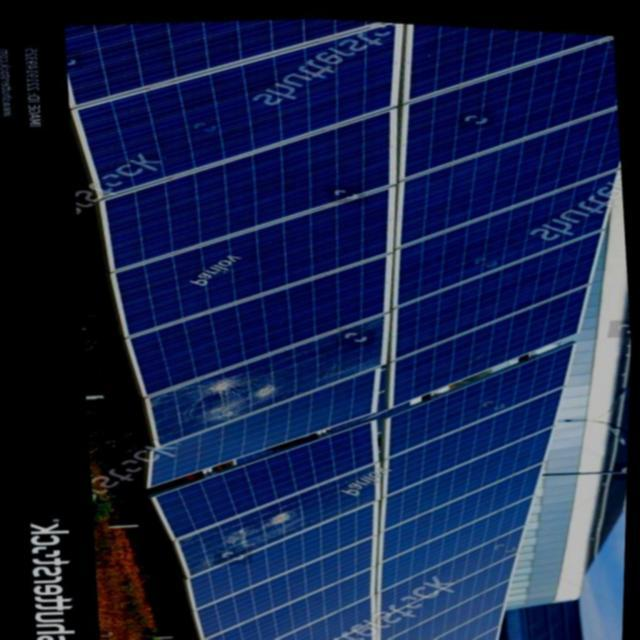cracked: (148, 318, 381, 441), (166, 478, 376, 572)
